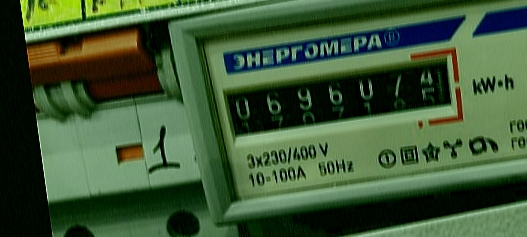0: (233, 92, 254, 120), (357, 73, 377, 100)
4: (418, 63, 435, 86)
5: (421, 85, 438, 106)
6: (263, 87, 285, 114), (326, 77, 346, 106)
7: (388, 69, 407, 97)
9: (295, 83, 315, 111)
screen: (216, 43, 470, 153)
